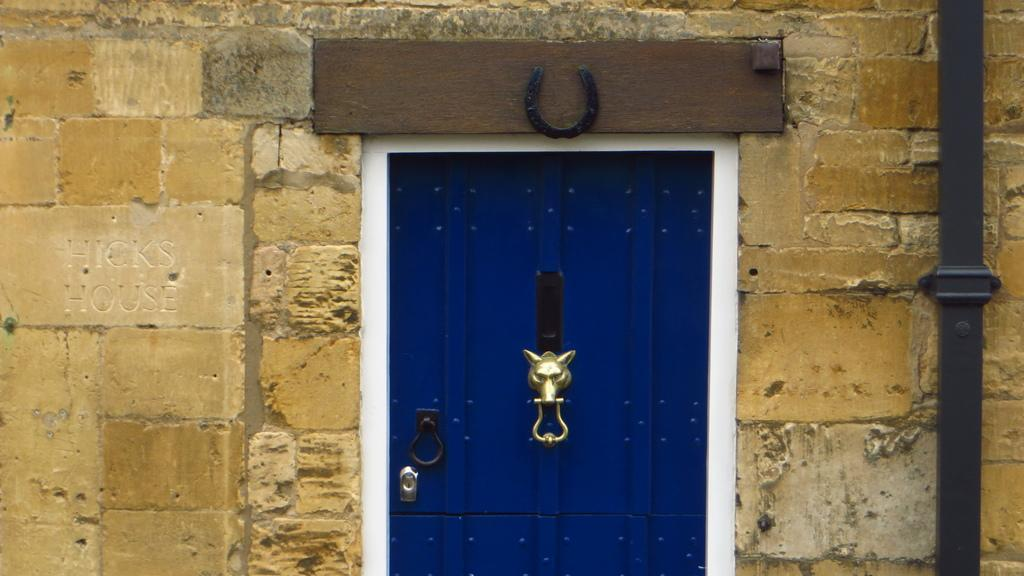door: (392, 158, 706, 576)
handle: (519, 396, 572, 450), (406, 426, 446, 472)
